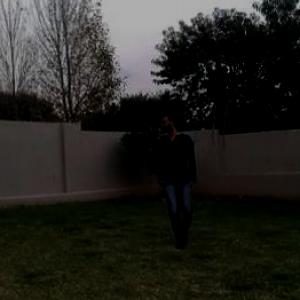follow: (162, 116, 196, 245)
